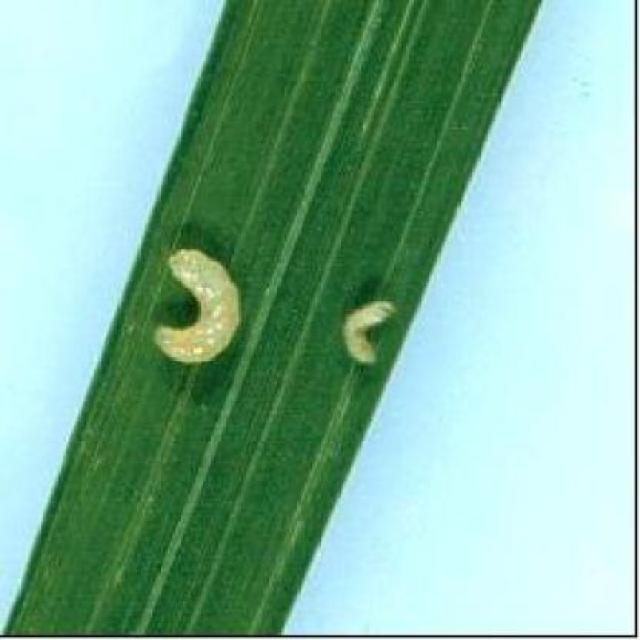whorl-maggot: (145, 230, 249, 388), (329, 267, 400, 378)
